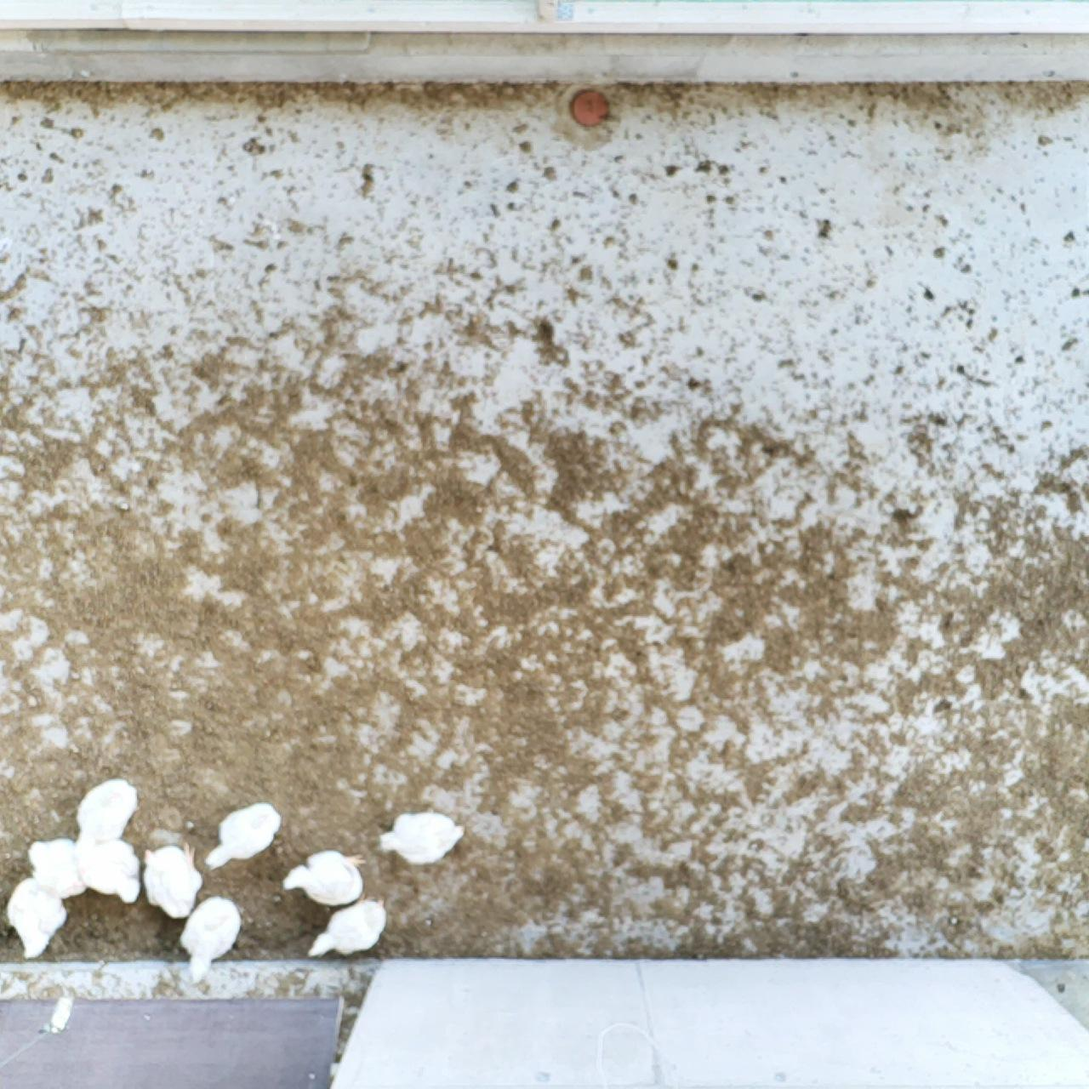chicken: (179, 893, 245, 987), (304, 892, 389, 960), (203, 800, 283, 871), (279, 848, 371, 909), (5, 875, 70, 961), (376, 807, 469, 866), (140, 842, 204, 921), (74, 839, 144, 906), (76, 776, 141, 847), (26, 836, 91, 899)
